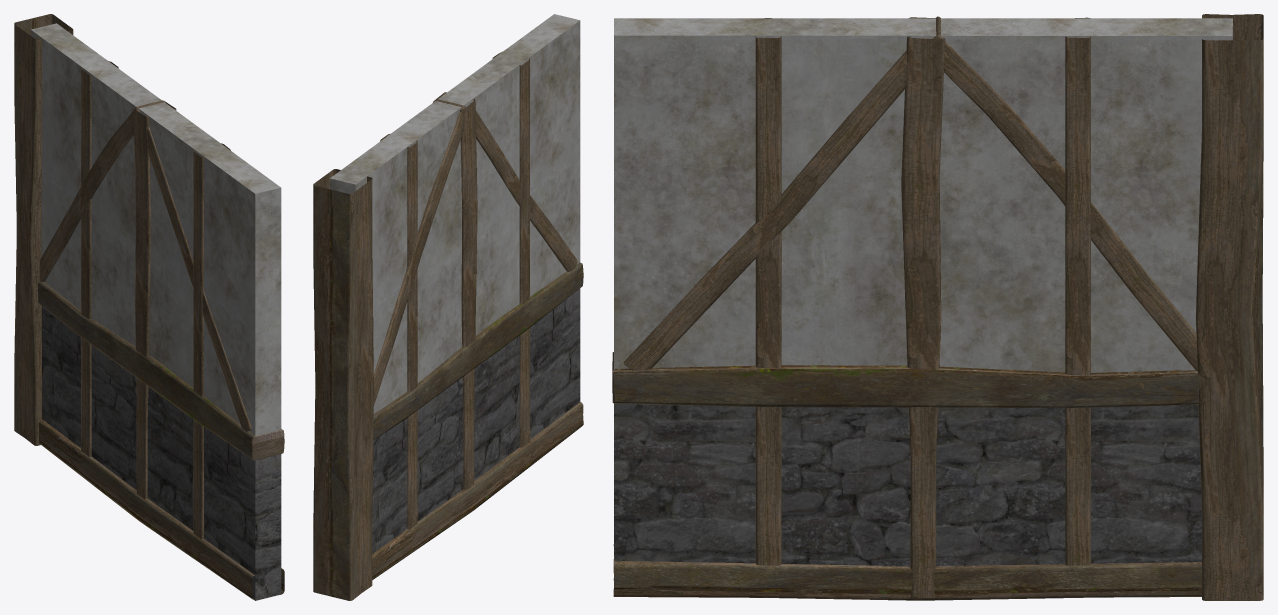
File: SM_Wall53.fbx
3 renders of one model, left to right at view 1: azimuth 30°, elevation 25°; view 2: azimuth 150°, elevation 25°; view 3: azimuth 270°, elevation 25°, orthographic. The views are drawn at different scales.
Visible parts, largest first — view 1: SM_Wall53_LOD0; view 2: SM_Wall53_LOD0; view 3: SM_Wall53_LOD0.
Boxes of the visible parts, box(x1,y1,x2,y2) form: SM_Wall53_LOD0: box(14, 14, 284, 600); SM_Wall53_LOD0: box(313, 14, 583, 600); SM_Wall53_LOD0: box(612, 14, 1263, 600).
Size of the model in its own units: 33.65 by 316 by 304.
